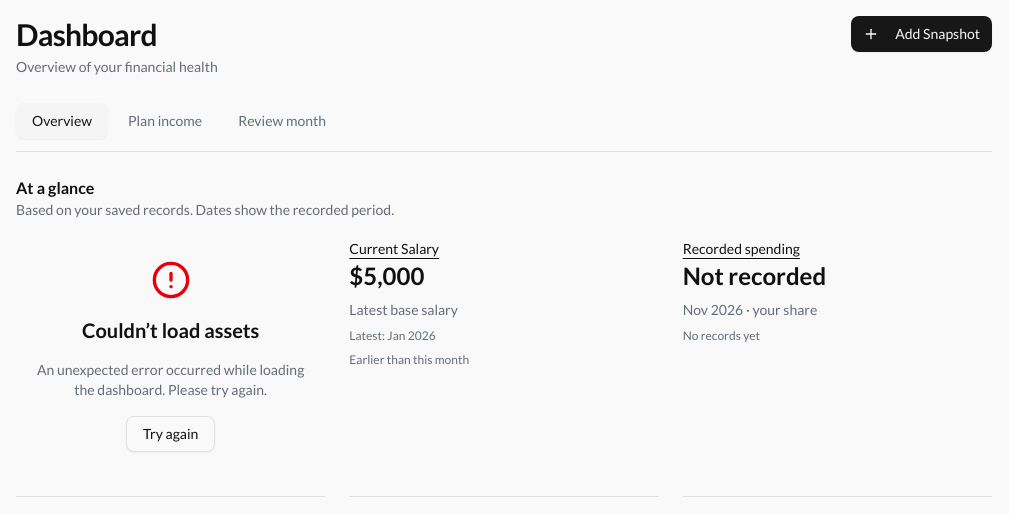
Test: retries a failed snapshot read without displaying an empty asset summary
Click the button "Try again" at (171, 434), box [126,416,215,452]
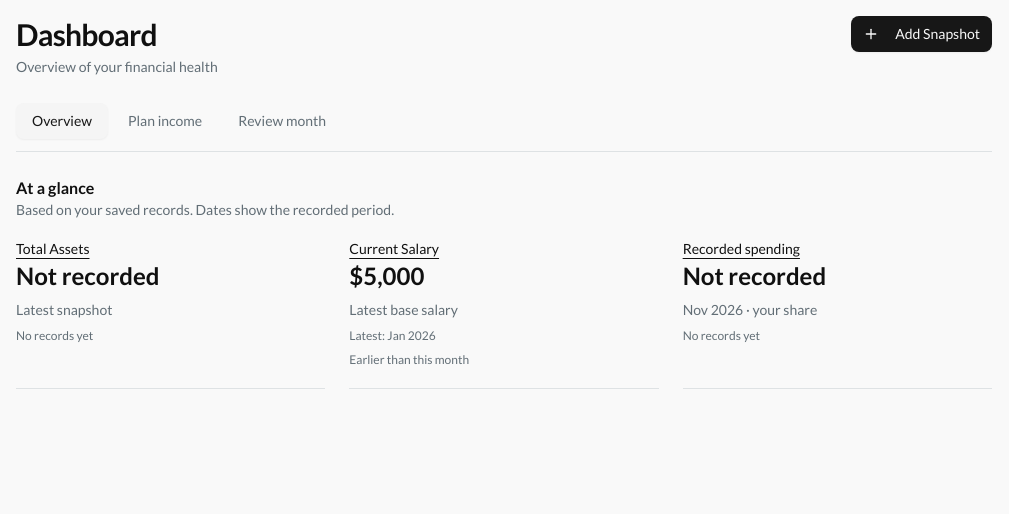
Expected: the link "Total Assets" is shown, [16,240,90,257]
